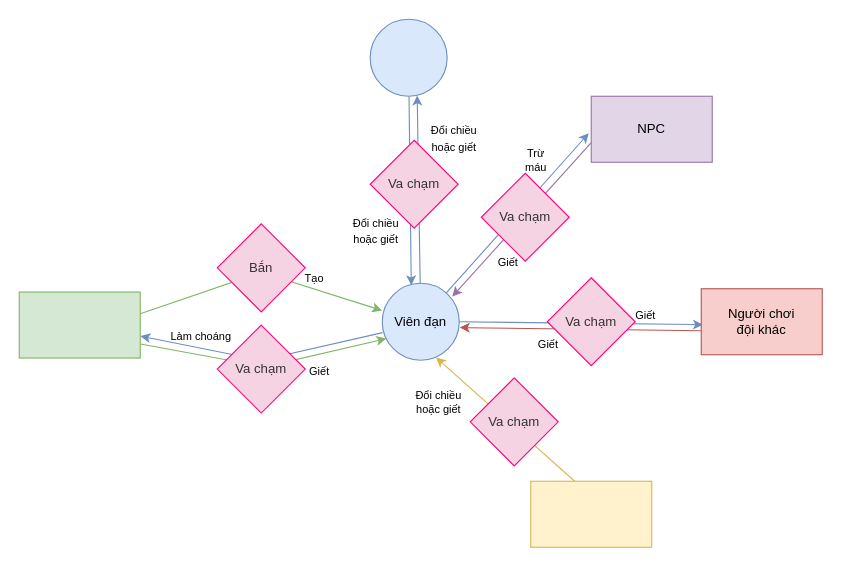
This 842x567 diagram has some shape labels left out. The centre of each missing label's shape, as x and y in pixels:
"Người chơi" belongs at (x=79, y=324).
"Viên đạn khác" belongs at (x=408, y=57).
"Vật cản" belongs at (x=591, y=513).
